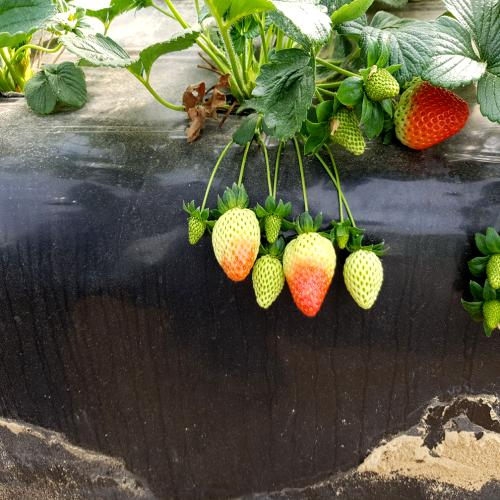partially-ripe: (392, 69, 474, 154), (282, 227, 338, 313), (210, 200, 258, 289)
